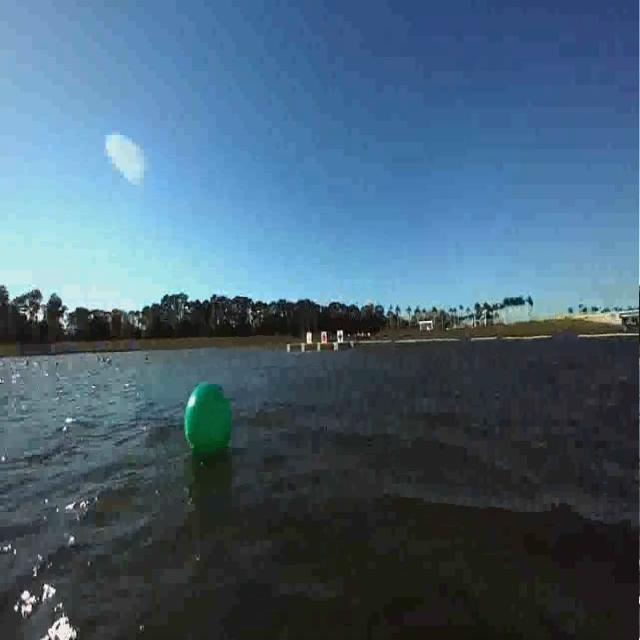green-buoy: (183, 381, 233, 458)
